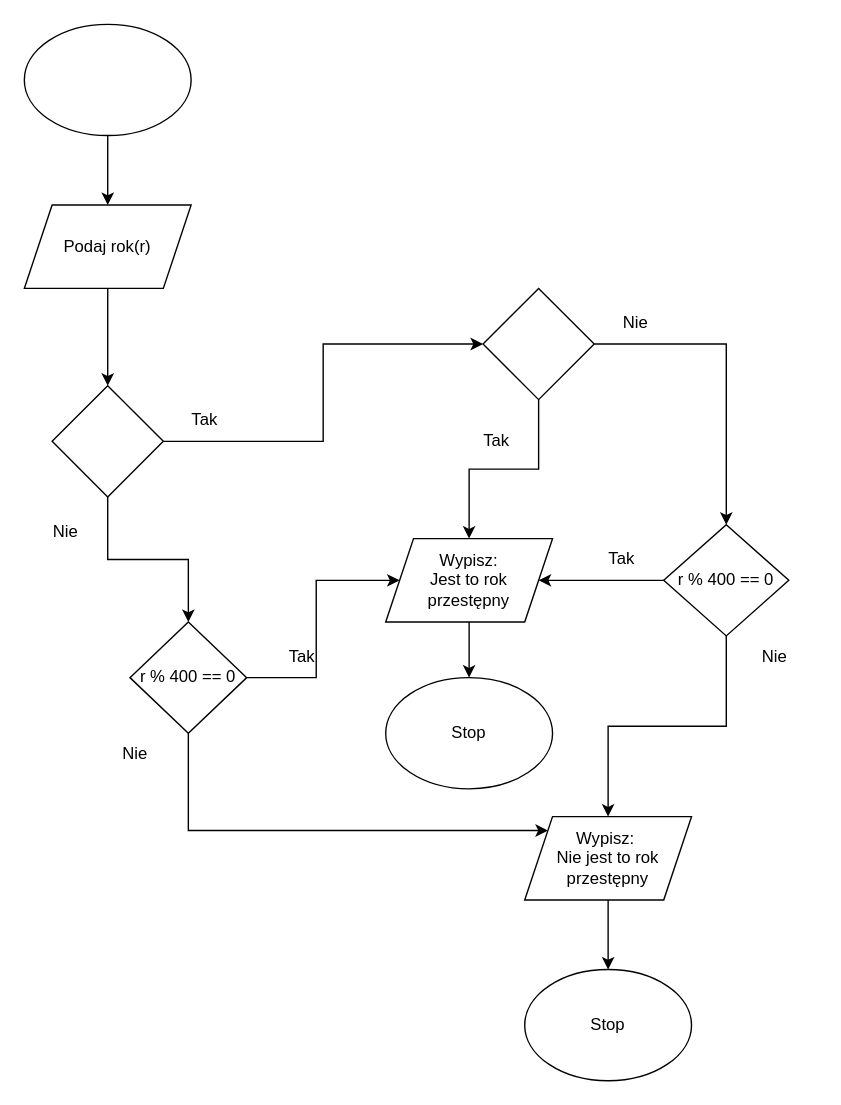
Some shapes in this 841 by 1105 pixel diagram are drawn without their labels. Each missing label, with the box of its shape:
r % 100 != 0: (482, 287, 594, 400)
r % 4 == 0: (51, 384, 163, 497)
Start: (23, 23, 191, 136)
